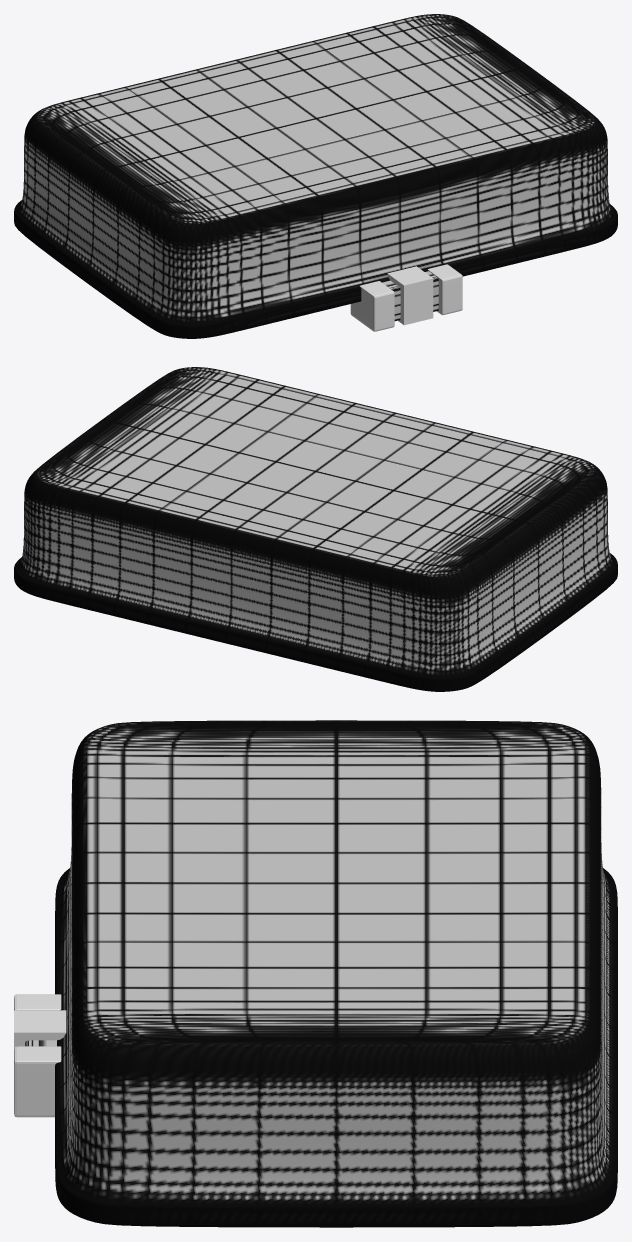
File: Tacklebox_Top.glb
3 views of the same model, one above another, from view 1: azimuth 30°, elevation 25°; view 2: azimuth 150°, elevation 25°; view 3: azimuth 270°, elevation 25° (orthographic). The views are drawn at different scales.
Visible parts, largest first — view 1: Tacklebox_Top; view 2: Tacklebox_Top; view 3: Tacklebox_Top.
Boxes of the visible parts, x1=… form: Tacklebox_Top: x1=14, y1=14, x2=617, y2=338; Tacklebox_Top: x1=14, y1=367, x2=617, y2=691; Tacklebox_Top: x1=14, y1=720, x2=617, y2=1227.
Size of the model in its own units: 5.2 by 1.37 by 3.74.
Materials: 1 (1 with a texture image).
